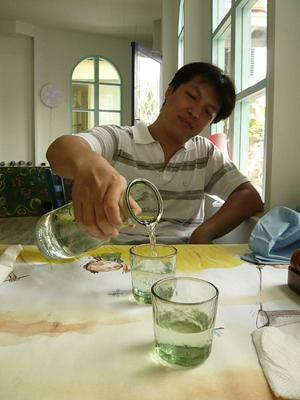person: (46, 63, 266, 246)
